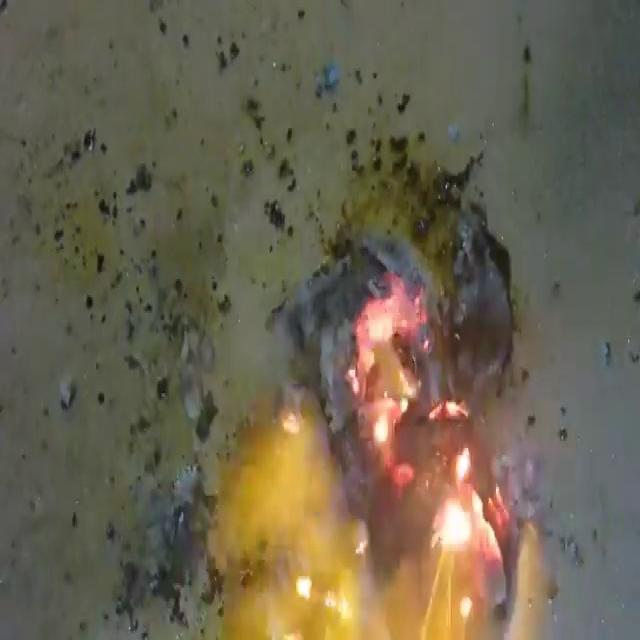Fire: (150, 144, 567, 634)
